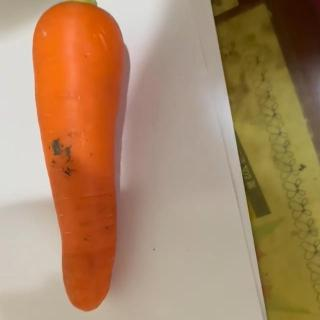carrot: (32, 0, 126, 314)
